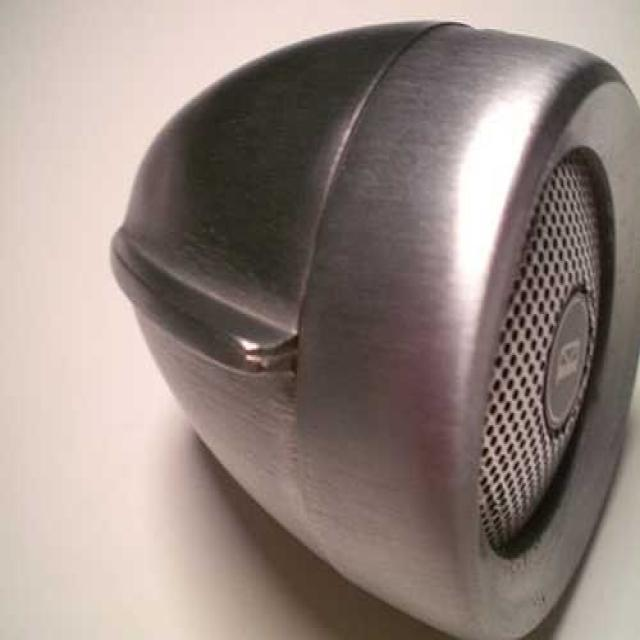microphone: (124, 15, 640, 640)
